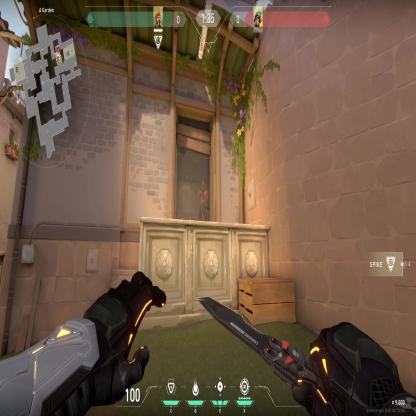enemy: (196, 179, 209, 221)
